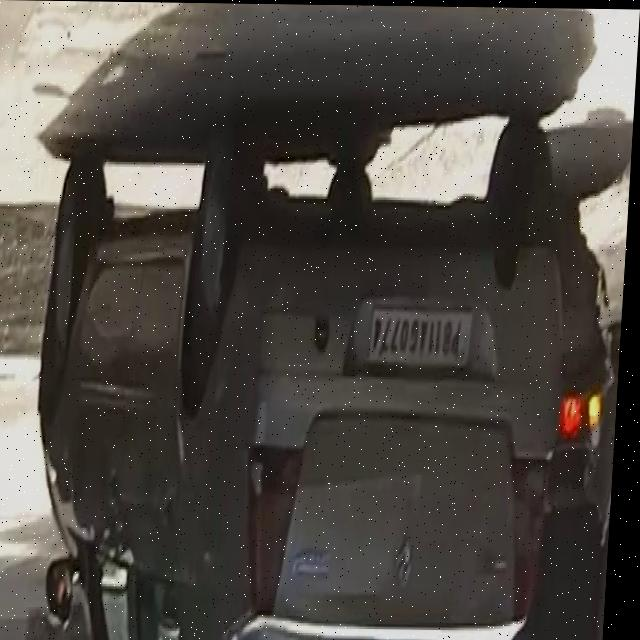plate: (371, 305, 478, 372)
